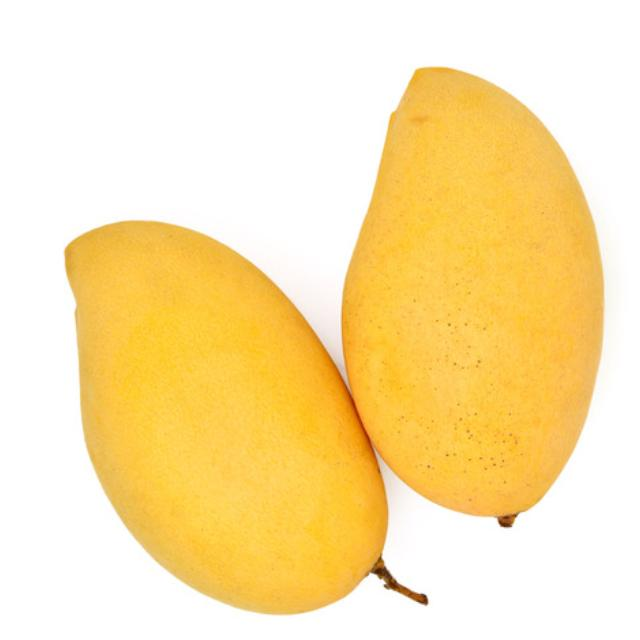mango: (60, 214, 389, 615), (342, 63, 601, 523)
